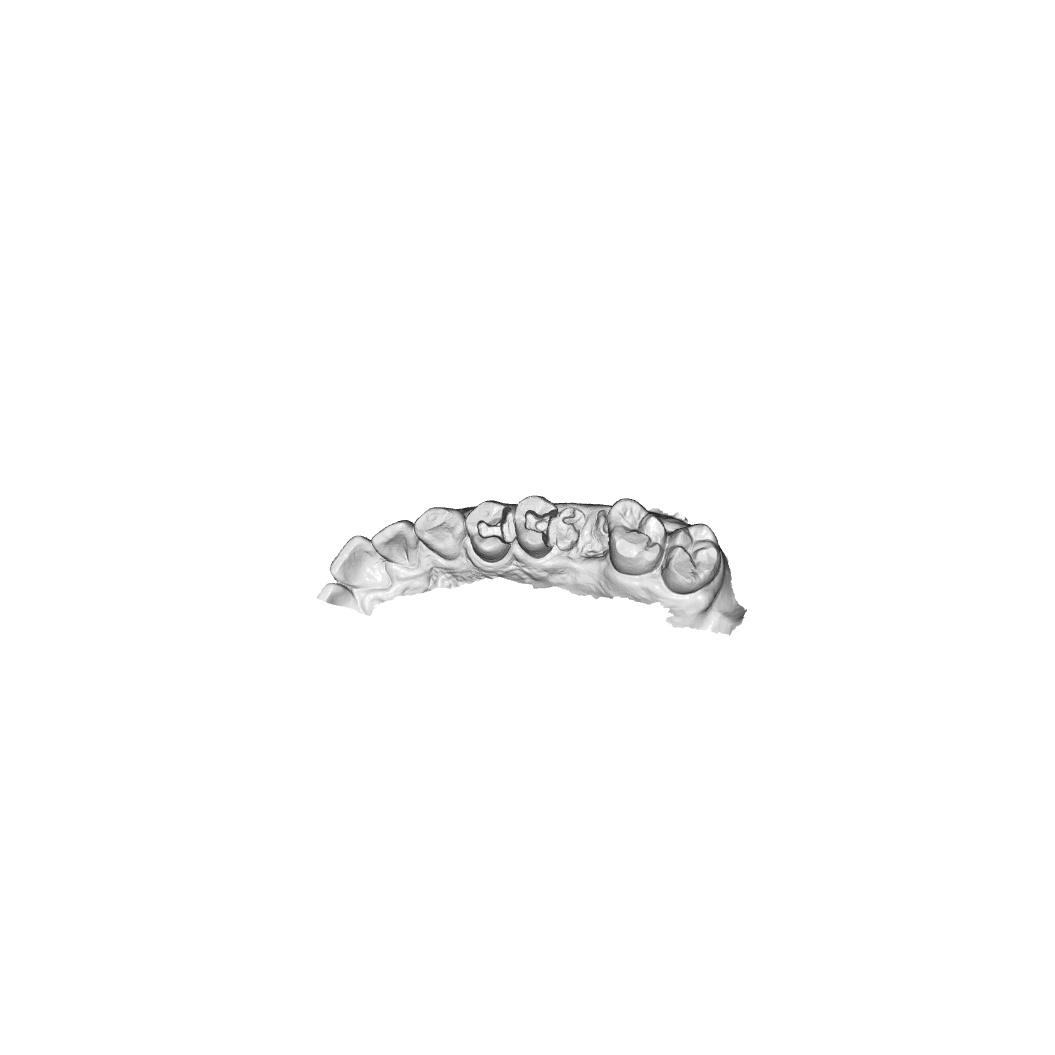canine: (413, 506, 467, 562)
incisor: (329, 534, 385, 590), (370, 518, 421, 567)
inlay: (519, 504, 559, 550), (475, 505, 516, 547)
molar: (606, 497, 668, 577), (660, 522, 722, 596)
